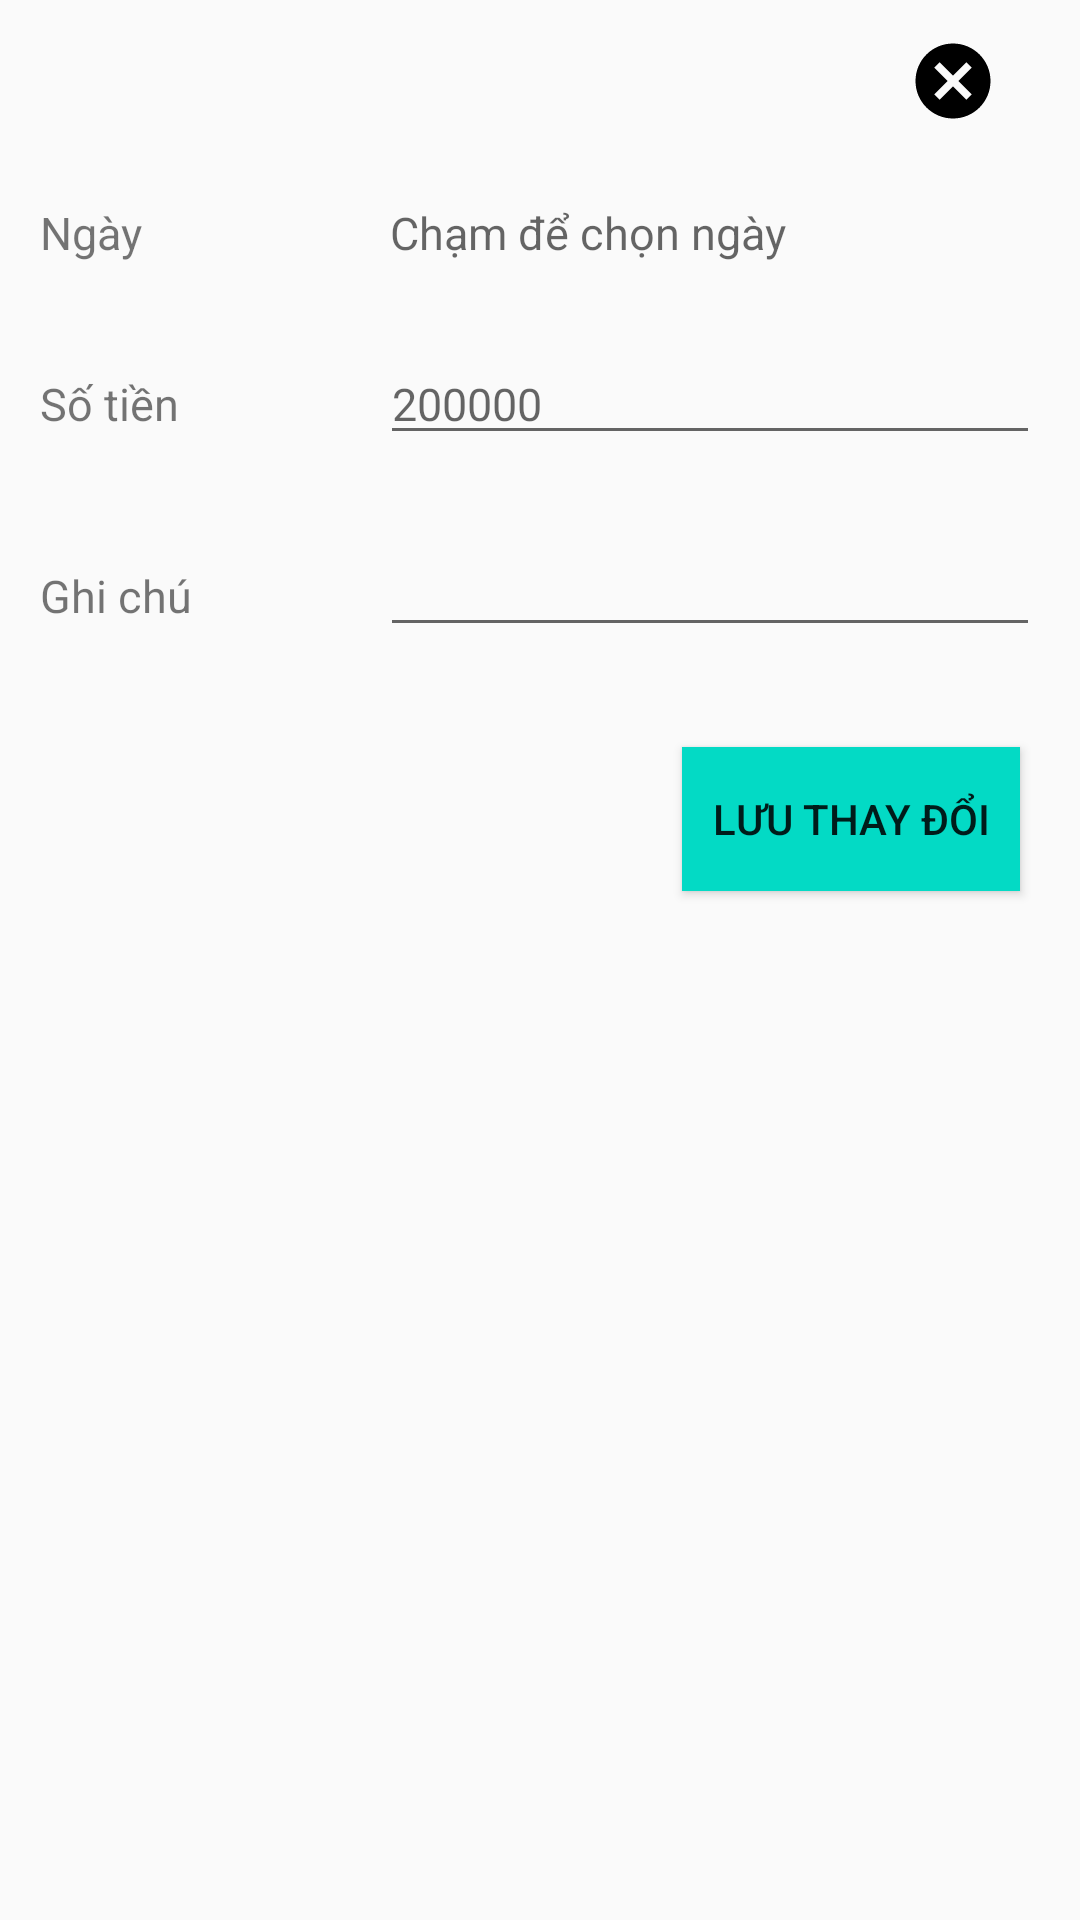

Point at icon controls on the screen. Image size 1080px×1920px, points as [x,y].
cancel: [953,81]
